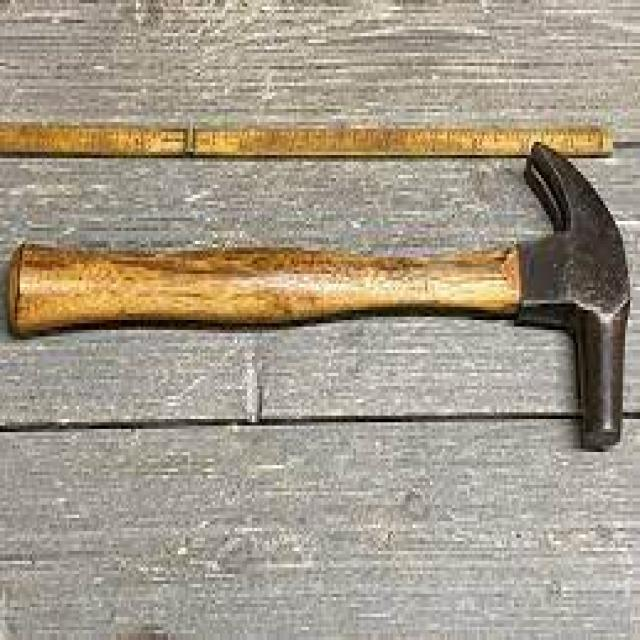hammer: (1, 132, 634, 462)
